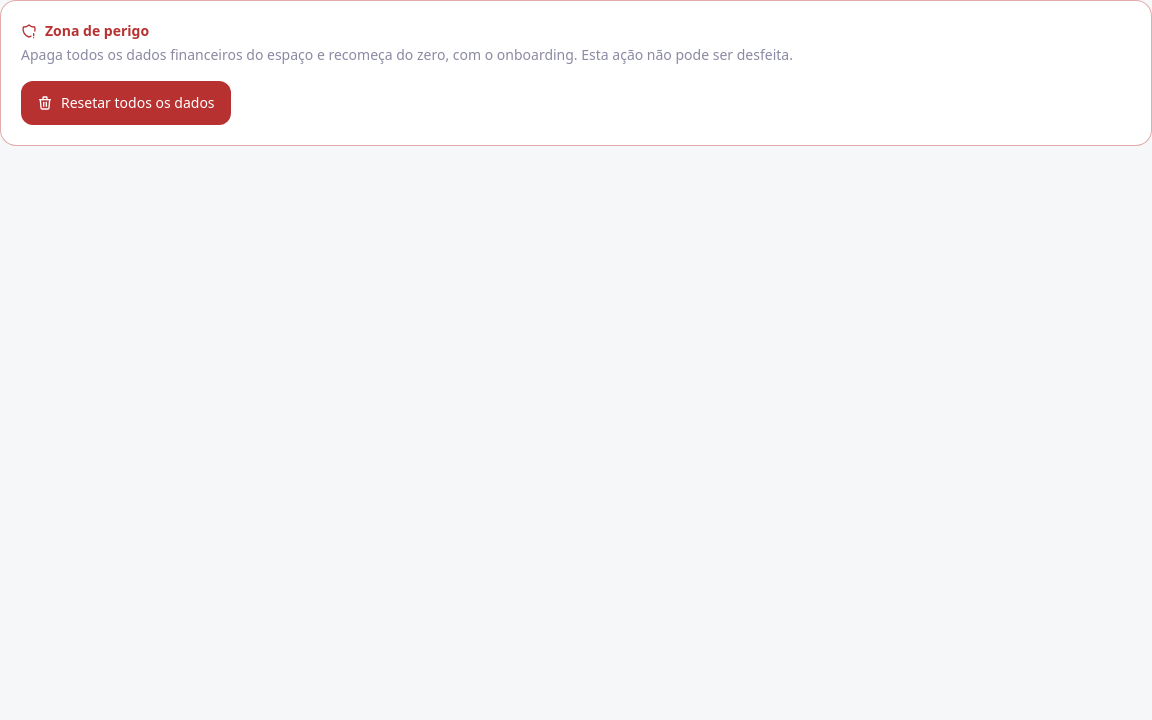
Scenario: DangerZone › só habilita com o texto exato RESETAR
Later steps or results of the test are not shown.
Click the button "Resetar todos os dados" at [126, 103], box [21,81,231,125]
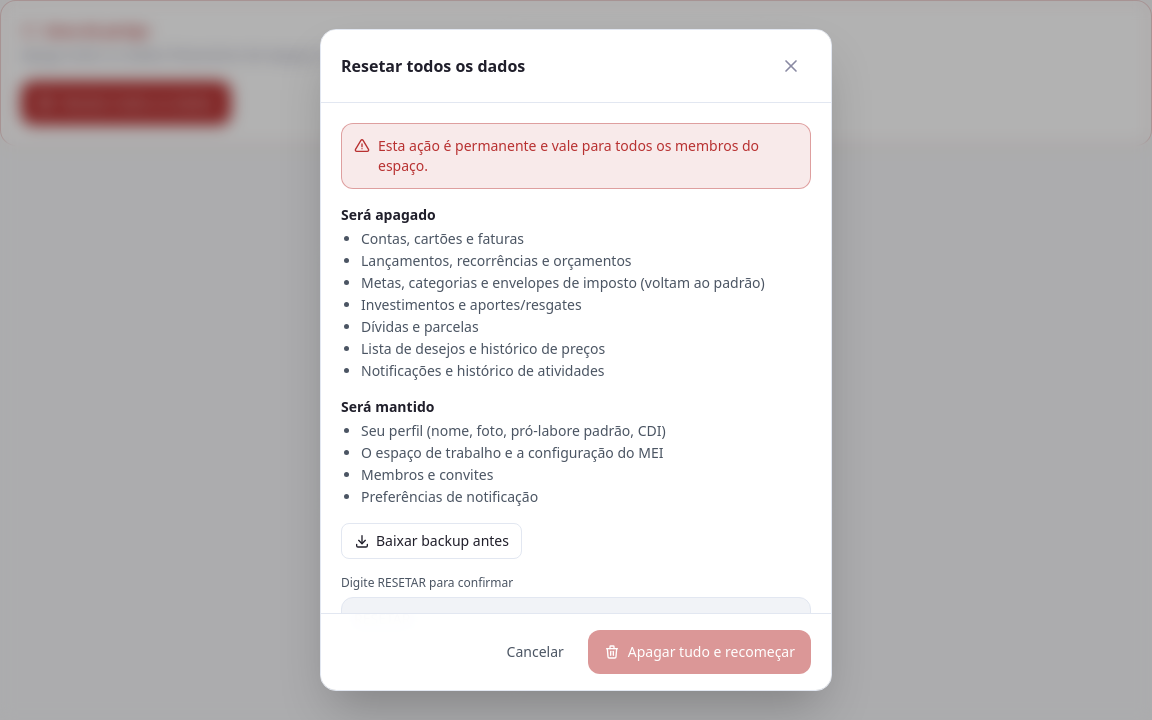
expect the button "Apagar tudo e recomeçar" is disabled: met, box [588,630,811,674]
